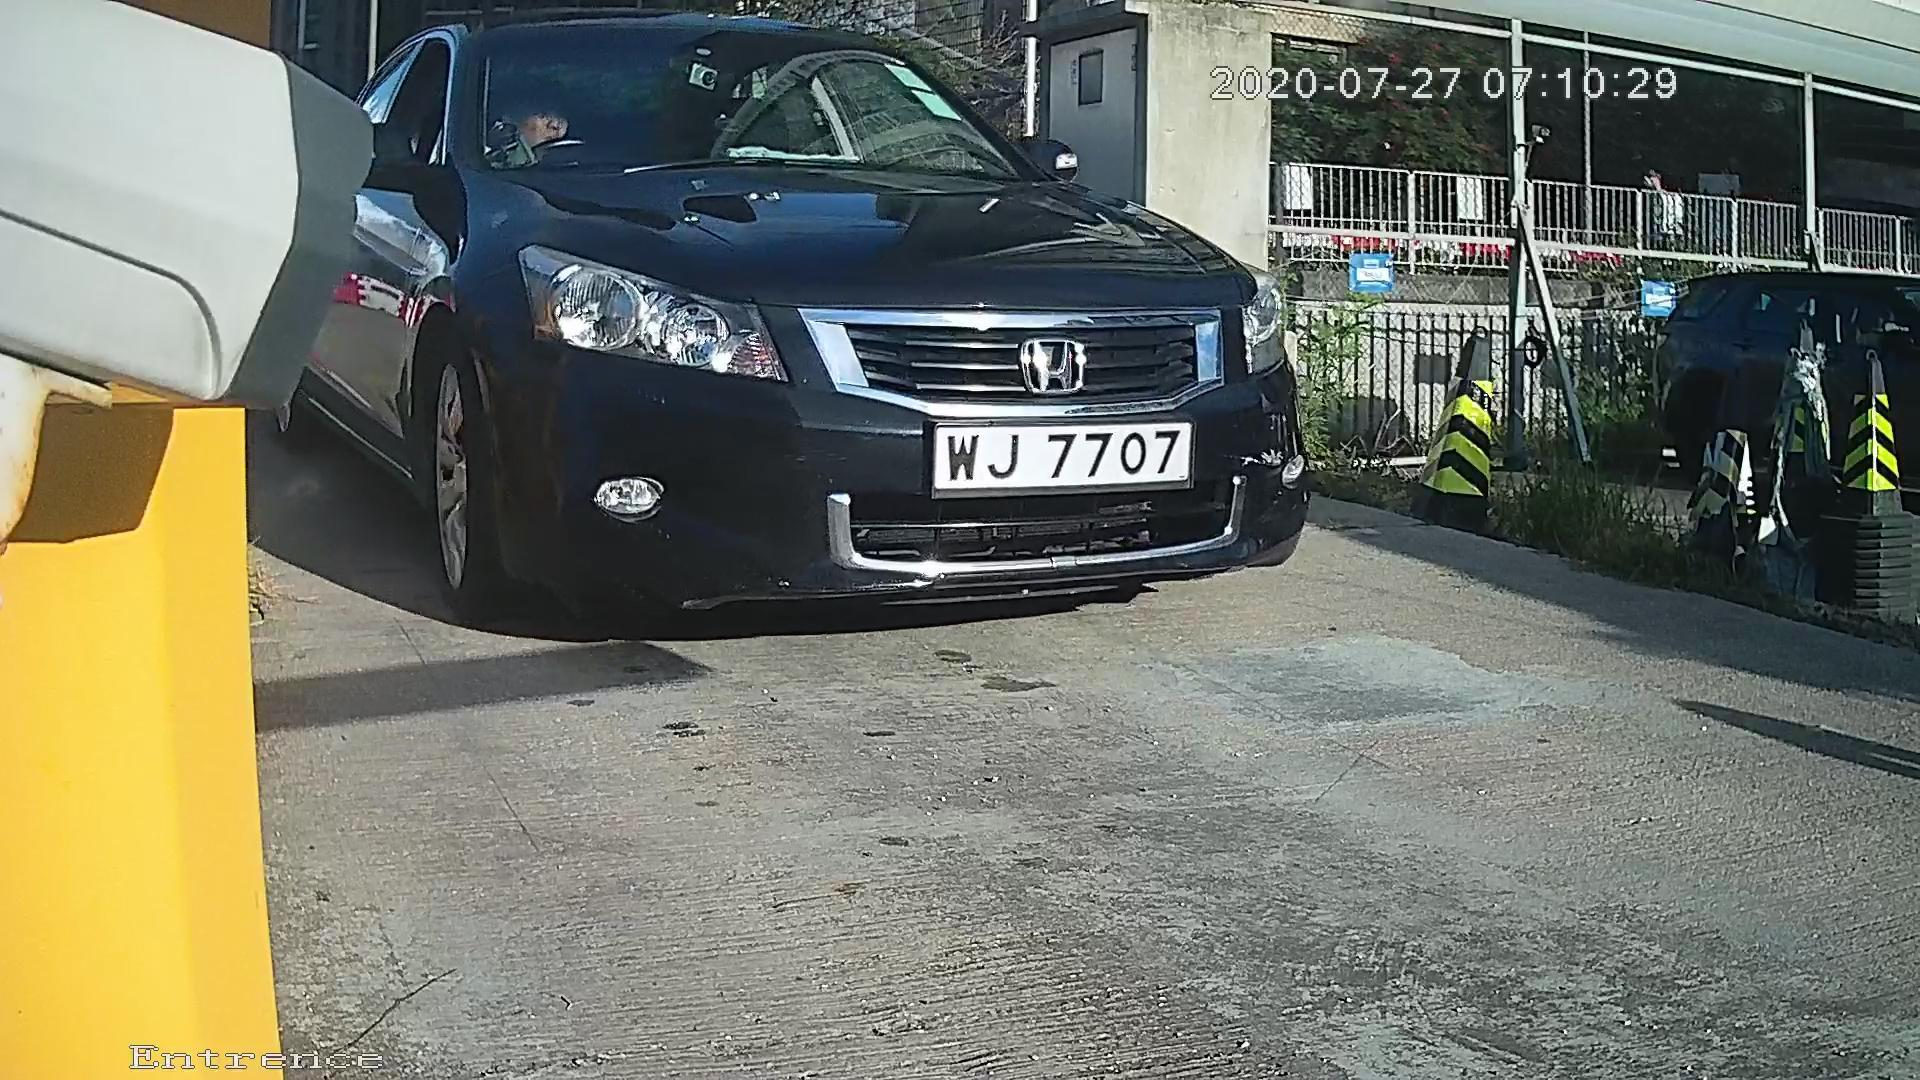Car: (181, 44, 1398, 656)
License Plate: (901, 406, 1209, 497)
